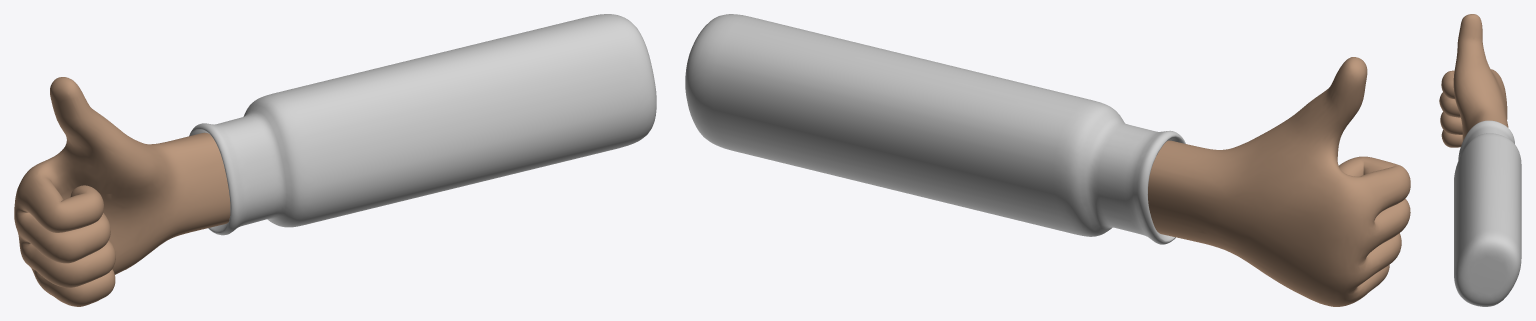
Rendered from thumbsUpModel.gltf.
3 views of the same model, side by side, from view 1: azimuth 30°, elevation 25°; view 2: azimuth 150°, elevation 25°; view 3: azimuth 270°, elevation 25° (orthographic). The views are drawn at different scales.
Visible parts, largest first — view 1: Sleeve, Hand; view 2: Sleeve, Hand; view 3: Sleeve, Hand.
Part boxes in pixels (box(x1,y1,x2,y2)): Sleeve: box(189, 14, 656, 235); Hand: box(14, 77, 230, 306); Sleeve: box(685, 14, 1185, 244); Hand: box(1148, 57, 1410, 306); Sleeve: box(1454, 120, 1521, 306); Hand: box(1439, 14, 1508, 147).
Size of the model in its own units: 0.3837 by 0.1303 by 0.0726.
